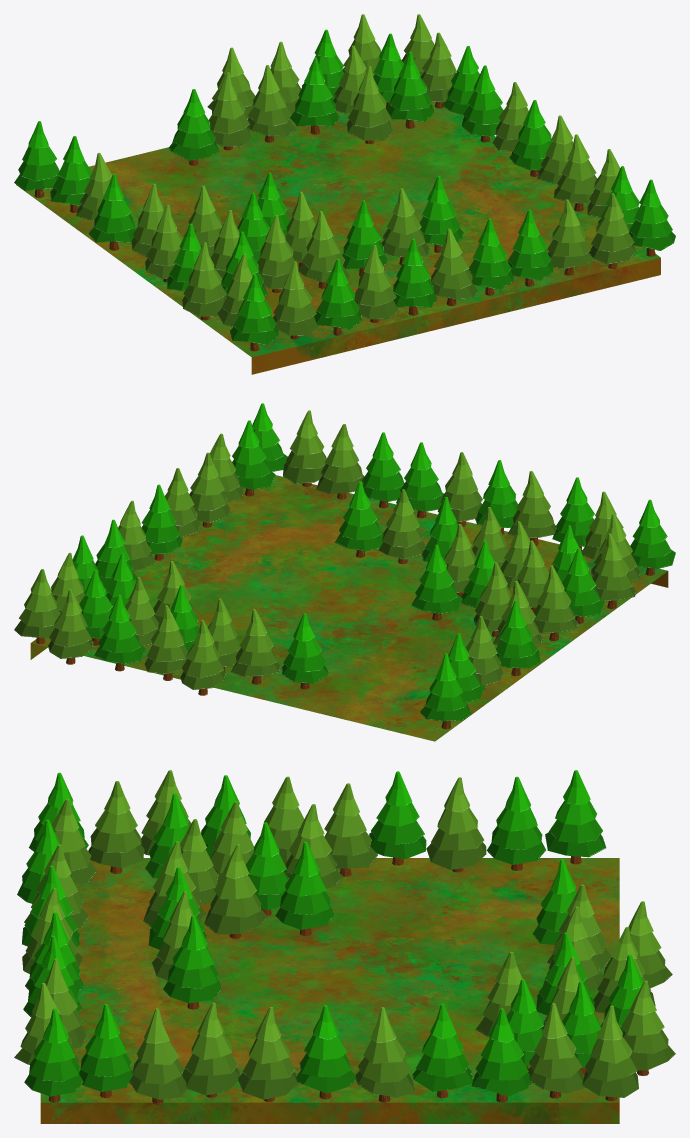
Rendered from lvl_0-cnk0.obj.
3 renders of one model, top to bottom at view 1: azimuth 30°, elevation 25°; view 2: azimuth 150°, elevation 25°; view 3: azimuth 270°, elevation 25°, orthographic. The views are drawn at different scales.
Parts seen in each view (by area): view 1: Cube.007, Arbol_1.081, Arbol_1.010, Arbol_1.062, Arbol_1.068, Arbol_1.001, Arbol_1.006, Arbol_1.011, Arbol_1.087, Arbol_1.017, Arbol_1.069, Arbol_1.020 (+42 smaller); view 2: Cube.007, Arbol_1.091, Arbol_1.034, Arbol_1.022, Arbol_1.042, Arbol_1.062, Arbol_1.035, Arbol_1.015, Arbol_1.016, Arbol_1.086, Arbol_1.063, Arbol_1.088 (+42 smaller); view 3: Cube.007, Arbol_1.027, Arbol_1.033, Arbol_1.037, Arbol_1.036, Arbol_1.044, Arbol_1.035, Arbol_1.025, Arbol_1.040, Arbol_1.039, Arbol_1.043, Arbol_1.031 (+42 smaller).
Boxes of the visible parts, x1=… form: Cube.007: x1=16, y1=101, x2=660, y2=374; Arbol_1.081: x1=347, y1=66, x2=393, y2=143; Arbol_1.010: x1=273, y1=261, x2=318, y2=339; Arbol_1.062: x1=168, y1=89, x2=219, y2=165; Arbol_1.068: x1=247, y1=65, x2=296, y2=142; Arbol_1.001: x1=230, y1=274, x2=278, y2=351; Arbol_1.006: x1=182, y1=242, x2=226, y2=320; Arbol_1.011: x1=314, y1=258, x2=361, y2=335; Arbol_1.087: x1=386, y1=51, x2=434, y2=128; Arbol_1.017: x1=354, y1=245, x2=398, y2=322; Arbol_1.069: x1=290, y1=57, x2=339, y2=134; Arbol_1.020: x1=431, y1=228, x2=478, y2=306; Cube.007: x1=30, y1=475, x2=668, y2=741; Arbol_1.091: x1=94, y1=594, x2=145, y2=671; Arbol_1.034: x1=411, y1=544, x2=462, y2=620; Arbol_1.022: x1=316, y1=424, x2=364, y2=499; Arbol_1.042: x1=283, y1=410, x2=326, y2=486; Arbol_1.062: x1=281, y1=613, x2=328, y2=689; Arbol_1.035: x1=420, y1=653, x2=471, y2=729; Arbol_1.015: x1=335, y1=481, x2=383, y2=557; Arbol_1.016: x1=379, y1=489, x2=425, y2=564; Arbol_1.086: x1=48, y1=589, x2=93, y2=664; Arbol_1.063: x1=231, y1=609, x2=281, y2=684; Arbol_1.088: x1=180, y1=620, x2=225, y2=695; Cube.007: x1=40, y1=858, x2=619, y2=1123; Arbol_1.027: x1=204, y1=844, x2=268, y2=938; Arbol_1.033: x1=426, y1=777, x2=486, y2=872; Arbol_1.037: x1=238, y1=1007, x2=297, y2=1101; Arbol_1.036: x1=182, y1=1002, x2=239, y2=1097; Arbol_1.044: x1=582, y1=1005, x2=638, y2=1100; Arbol_1.035: x1=545, y1=770, x2=606, y2=864; Arbol_1.025: x1=129, y1=1008, x2=186, y2=1104; Arbol_1.040: x1=355, y1=1007, x2=415, y2=1102; Arbol_1.039: x1=412, y1=1004, x2=473, y2=1098; Arbol_1.043: x1=528, y1=1003, x2=585, y2=1098; Arbol_1.031: x1=369, y1=771, x2=426, y2=865.
Bounding box in the file's own units: 108 × 21.19 × 113.
